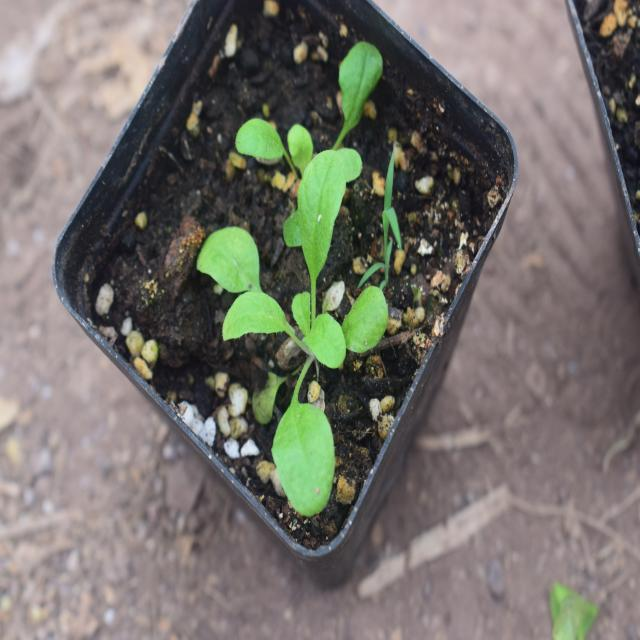Shepherd_Purse: (204, 136, 381, 490)
